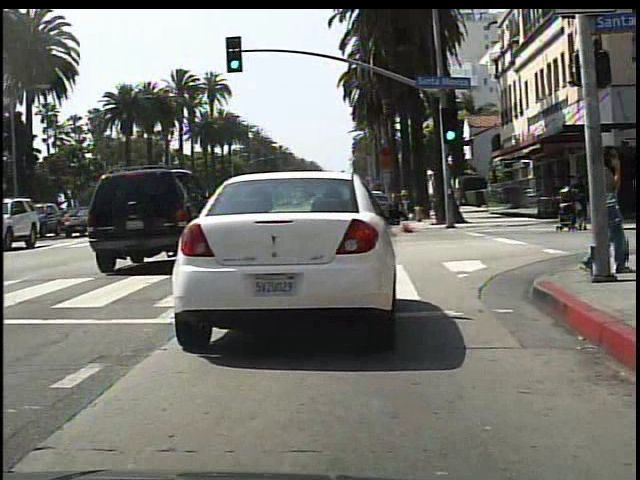person: (578, 141, 631, 278)
